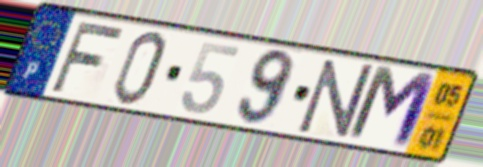0: (110, 29, 170, 108)
5: (179, 39, 243, 116)
9: (234, 47, 300, 130)
F: (46, 19, 129, 95)
M: (342, 62, 441, 153)
N: (295, 57, 377, 140)
